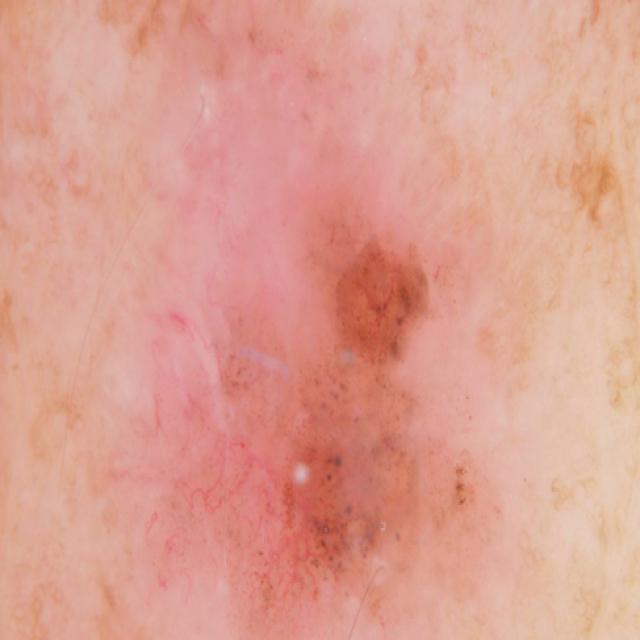Carcinoma: (133, 207, 501, 622), (550, 127, 637, 249)
